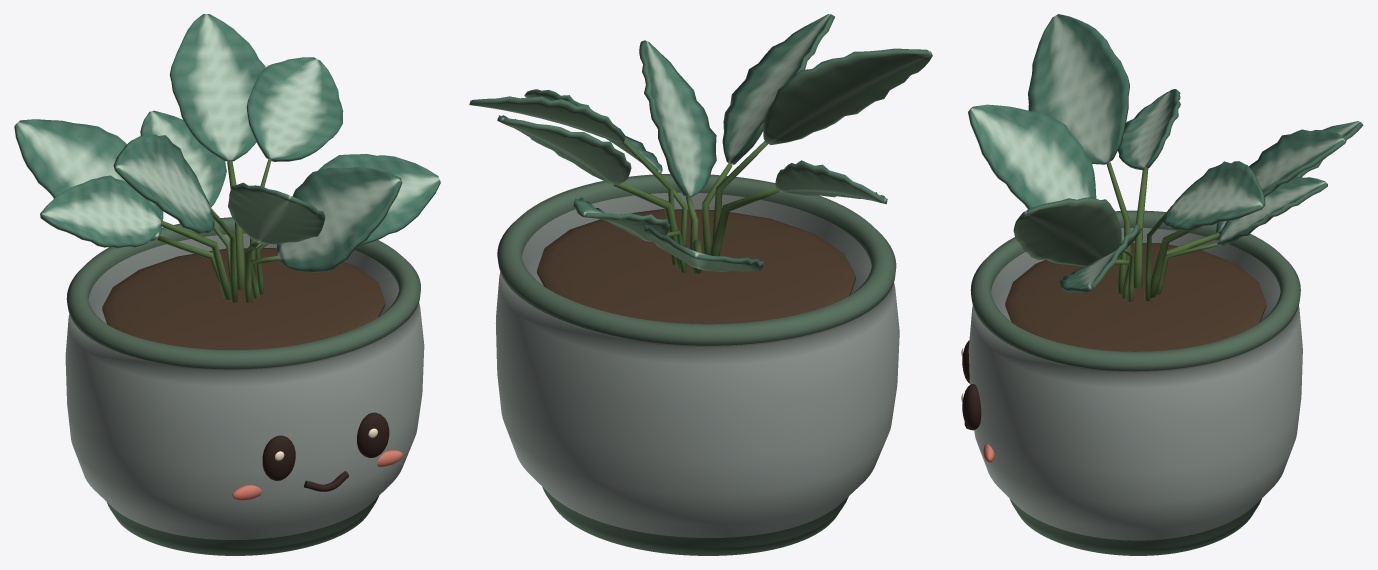
Rendered from chinese-evergreen-v1.glb.
The picture shows the model from 3 angles, left to right: view 1: azimuth 30°, elevation 25°; view 2: azimuth 150°, elevation 25°; view 3: azimuth 270°, elevation 25°; orthographic projection. The views are drawn at different scales.
Visible parts, largest first — view 1: Wheel-thrown ceramic, Soil, Chinese Evergreen lamina 1, Chinese Evergreen lamina 6, Chinese Evergreen lamina 8, Chinese Evergreen lamina 4, Chinese Evergreen lamina 7, Chinese Evergreen lamina 2, Chinese Evergreen lamina 5, Chinese Evergreen lamina 3, Chinese Evergreen lamina 9, Eye (+4 smaller); view 2: Wheel-thrown ceramic, Soil, Chinese Evergreen lamina 2, Chinese Evergreen lamina 8, Chinese Evergreen lamina 5, Chinese Evergreen lamina 1, Chinese Evergreen lamina 6, Chinese Evergreen lamina 7, Chinese Evergreen lamina 4, Chinese Evergreen lamina 9, Chinese Evergreen lamina 3, Chinese Evergreen petiole 7 (+3 smaller); view 3: Wheel-thrown ceramic, Soil, Chinese Evergreen lamina 2, Chinese Evergreen lamina 5, Chinese Evergreen lamina 8, Chinese Evergreen lamina 6, Chinese Evergreen lamina 1, Chinese Evergreen lamina 7, Chinese Evergreen lamina 9, Chinese Evergreen lamina 3, Chinese Evergreen petiole 7, Eye.001 (+4 smaller).
Boxes of the visible parts, x1=… form: Wheel-thrown ceramic: x1=65, y1=217, x2=424, y2=555; Soil: x1=102, y1=248, x2=385, y2=349; Chinese Evergreen lamina 1: x1=169, y1=14, x2=265, y2=161; Chinese Evergreen lamina 6: x1=246, y1=57, x2=343, y2=161; Chinese Evergreen lamina 8: x1=277, y1=167, x2=402, y2=272; Chinese Evergreen lamina 4: x1=14, y1=119, x2=163, y2=241; Chinese Evergreen lamina 7: x1=40, y1=175, x2=161, y2=248; Chinese Evergreen lamina 2: x1=113, y1=134, x2=214, y2=233; Chinese Evergreen lamina 5: x1=228, y1=182, x2=325, y2=244; Chinese Evergreen lamina 3: x1=318, y1=154, x2=440, y2=247; Chinese Evergreen lamina 9: x1=140, y1=110, x2=226, y2=207; Eye: x1=262, y1=435, x2=295, y2=480; Wheel-thrown ceramic: x1=495, y1=173, x2=899, y2=555; Soil: x1=537, y1=209, x2=855, y2=324; Chinese Evergreen lamina 2: x1=763, y1=48, x2=932, y2=144; Chinese Evergreen lamina 8: x1=639, y1=40, x2=716, y2=197; Chinese Evergreen lamina 5: x1=722, y1=14, x2=834, y2=164; Chinese Evergreen lamina 1: x1=497, y1=115, x2=631, y2=185; Chinese Evergreen lamina 6: x1=469, y1=96, x2=624, y2=143; Chinese Evergreen lamina 7: x1=775, y1=160, x2=887, y2=203; Chinese Evergreen lamina 4: x1=644, y1=224, x2=763, y2=272; Chinese Evergreen lamina 9: x1=573, y1=197, x2=670, y2=241; Chinese Evergreen lamina 3: x1=524, y1=89, x2=662, y2=172; Chinese Evergreen petiole 7: x1=709, y1=187, x2=779, y2=256; Wheel-thrown ceramic: x1=968, y1=210, x2=1302, y2=555; Soil: x1=1005, y1=243, x2=1266, y2=351; Chinese Evergreen lamina 2: x1=1028, y1=14, x2=1129, y2=164; Chinese Evergreen lamina 5: x1=968, y1=104, x2=1096, y2=209; Chinese Evergreen lamina 8: x1=1013, y1=197, x2=1121, y2=266; Chinese Evergreen lamina 6: x1=1163, y1=161, x2=1265, y2=231; Chinese Evergreen lamina 1: x1=1249, y1=129, x2=1346, y2=196; Chinese Evergreen lamina 7: x1=1118, y1=89, x2=1180, y2=170; Chinese Evergreen lamina 9: x1=1217, y1=176, x2=1327, y2=246; Chinese Evergreen lamina 3: x1=1059, y1=224, x2=1142, y2=292; Chinese Evergreen petiole 7: x1=1133, y1=167, x2=1148, y2=288; Eye.001: x1=962, y1=384, x2=981, y2=430.
Size of the model in its own units: 1.84 by 2.04 by 1.8.
